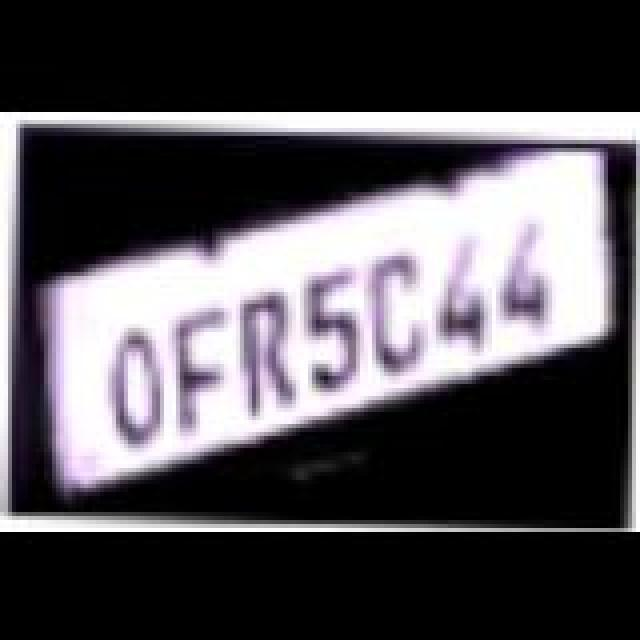4: (426, 234, 502, 358), (492, 216, 564, 336)
5: (292, 268, 372, 396)
C: (360, 248, 440, 376)
F: (160, 306, 240, 438)
O: (100, 326, 180, 450)
R: (230, 292, 306, 420)
